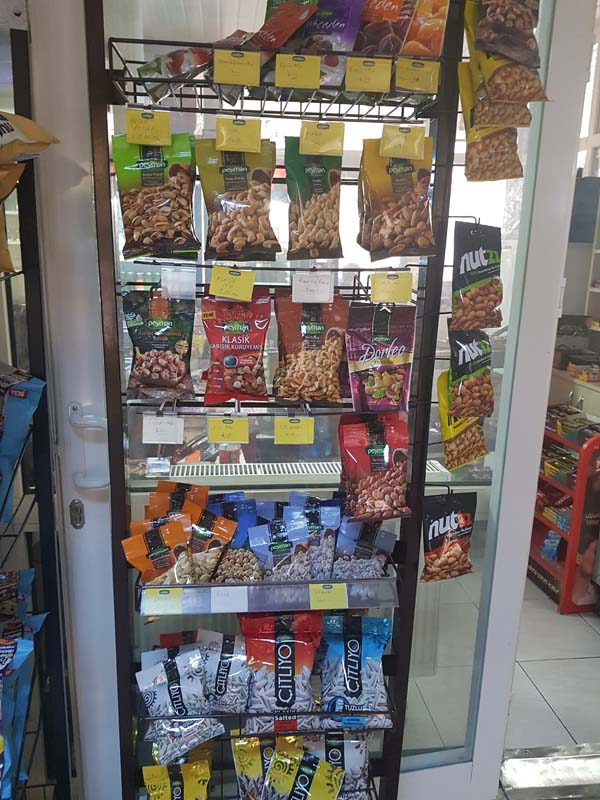antepfistigi: (114, 136, 204, 260)
citliyorkarasisimsek: (262, 739, 348, 800)
peysankavrulmusfindik: (241, 612, 323, 740), (118, 287, 194, 401)
